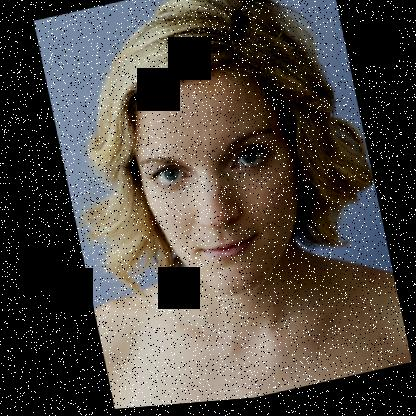Female: (115, 52, 325, 312)
